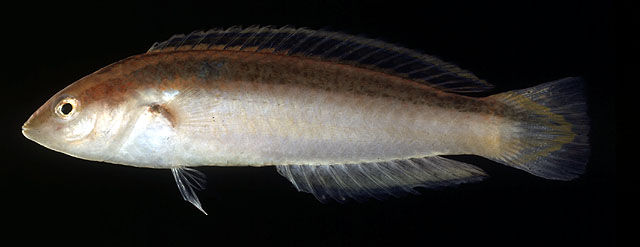fish: (20, 24, 589, 217)
